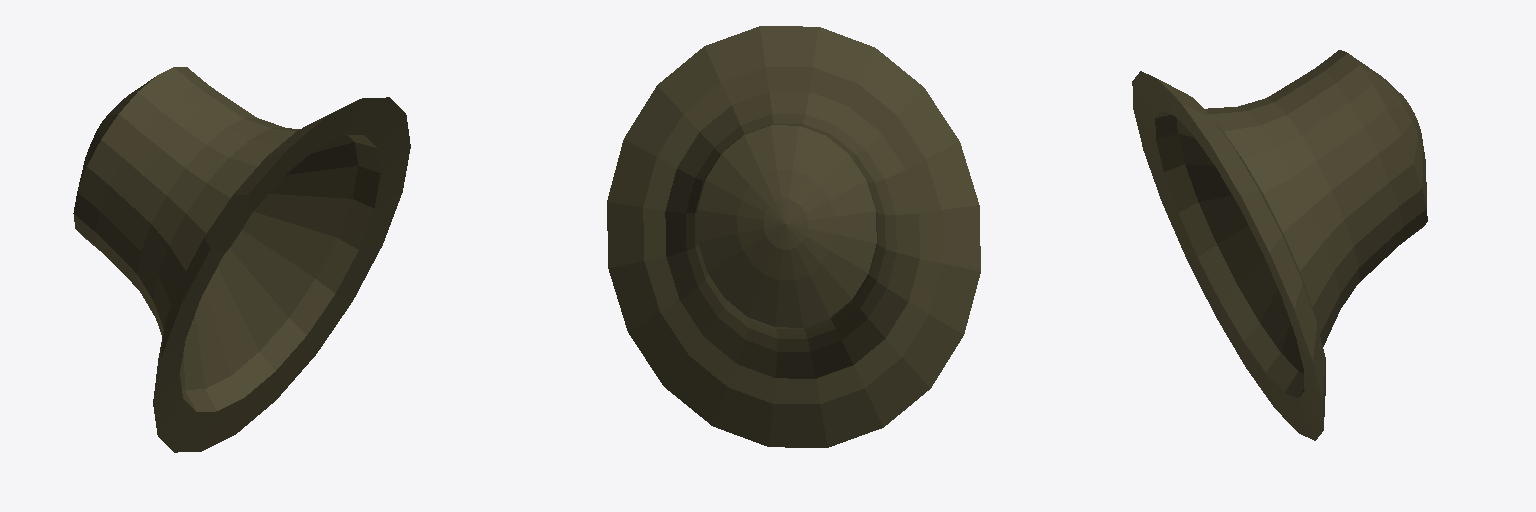
File: bell_2.obj
3 renders of one model, left to right at view 1: azimuth 30°, elevation 25°; view 2: azimuth 150°, elevation 25°; view 3: azimuth 270°, elevation 25°, orthographic.
Parts seen in each view (by area): view 1: polySurface925 polySurface877 broken_wall; view 2: polySurface925 polySurface877 broken_wall; view 3: polySurface925 polySurface877 broken_wall.
Boxes of the visible parts, x1=… form: polySurface925 polySurface877 broken_wall: x1=73, y1=67, x2=410, y2=452; polySurface925 polySurface877 broken_wall: x1=607, y1=26, x2=980, y2=447; polySurface925 polySurface877 broken_wall: x1=1132, y1=50, x2=1427, y2=440.
Size of the model in its own units: 6.13 by 6.93 by 5.09.